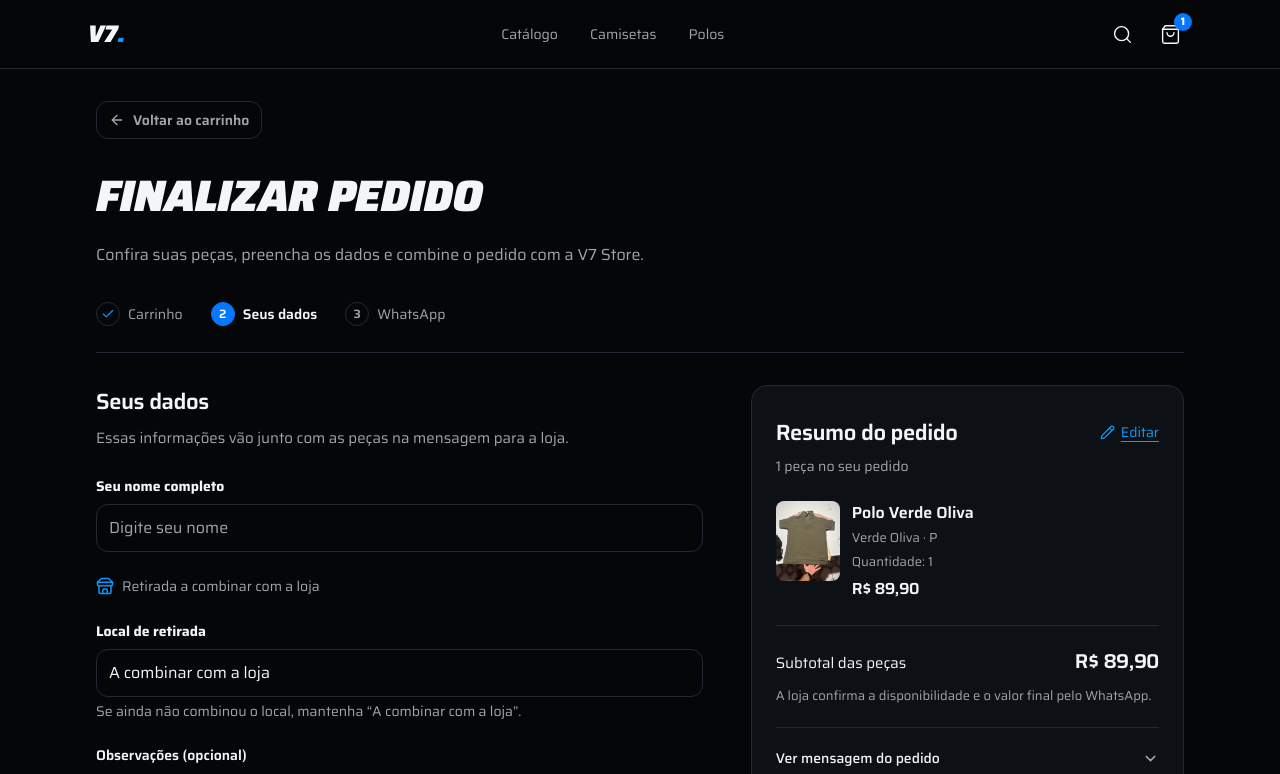
Test case: jornada de compra › abre a prévia e orienta a cópia manual quando o navegador bloqueia a área de transferência
Type "Cliente Teste" into the field labelled "Seu nome completo" at (399, 528), box [96,504,703,552]
(page scrolled)
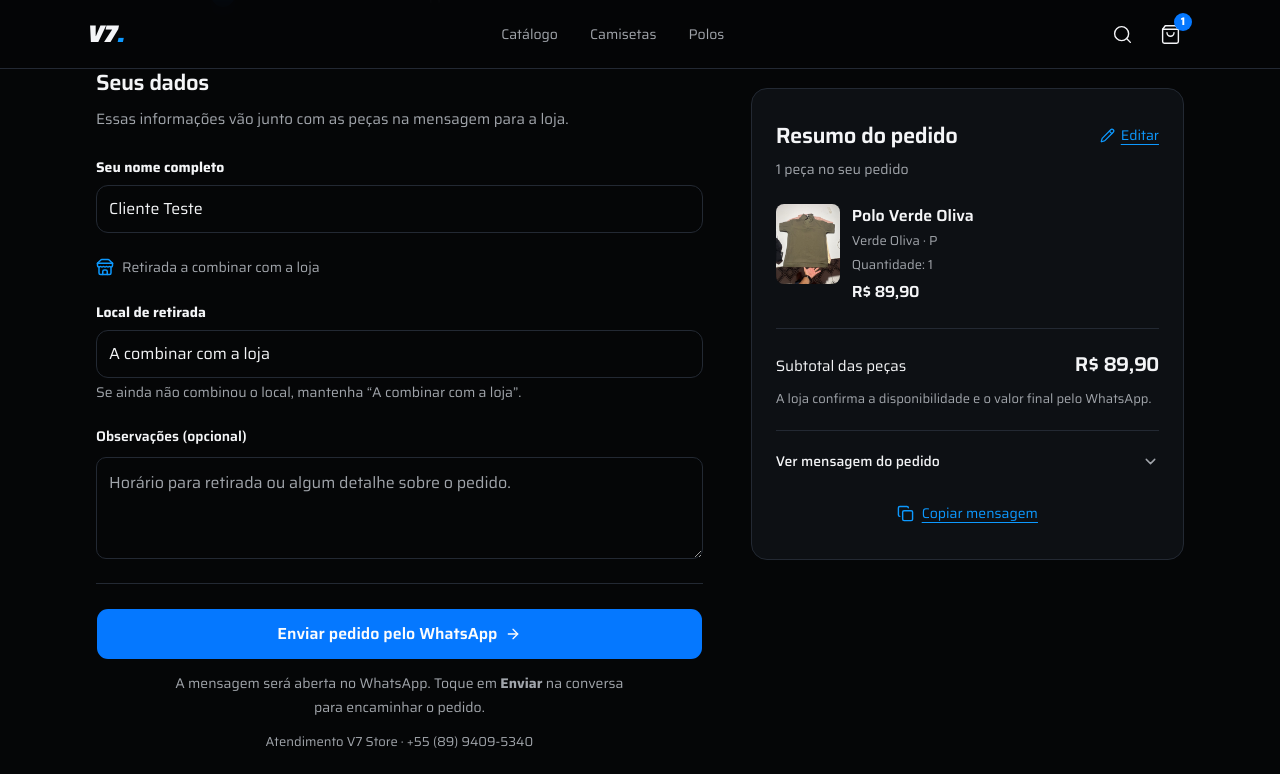
Click the button "Copiar mensagem" at (967, 513), box [776,491,1159,535]
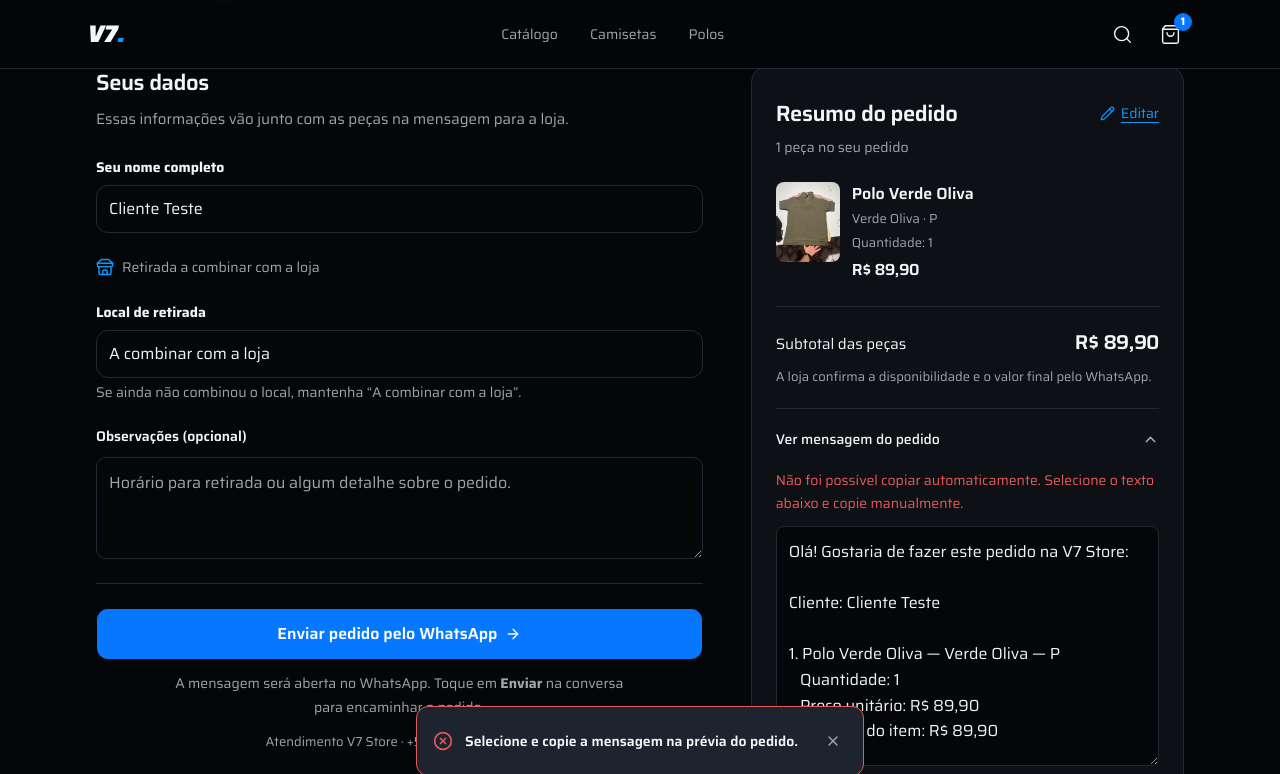
Check: the text "Não foi possível copiar automaticamente" is shown, box [776,469,1154,514]
